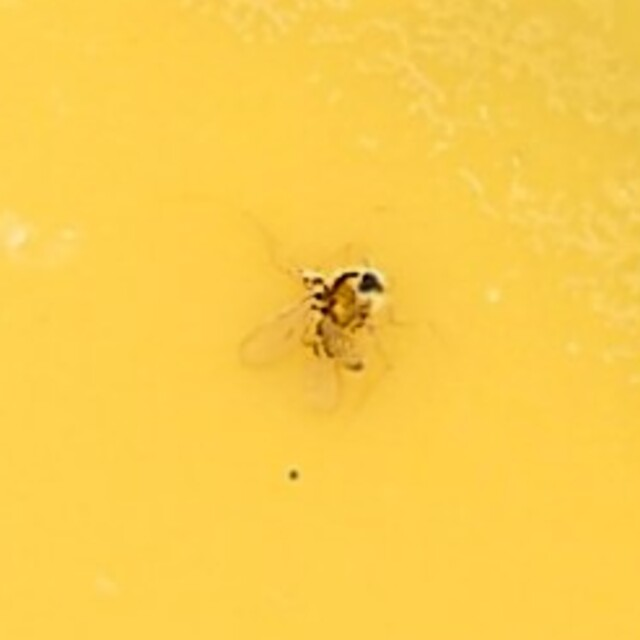Nematocera: (259, 250, 381, 390)
